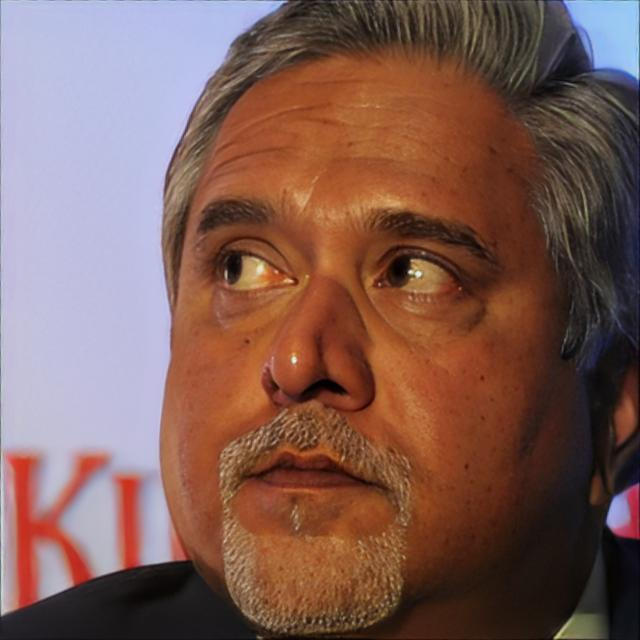fear: (154, 42, 594, 640)
